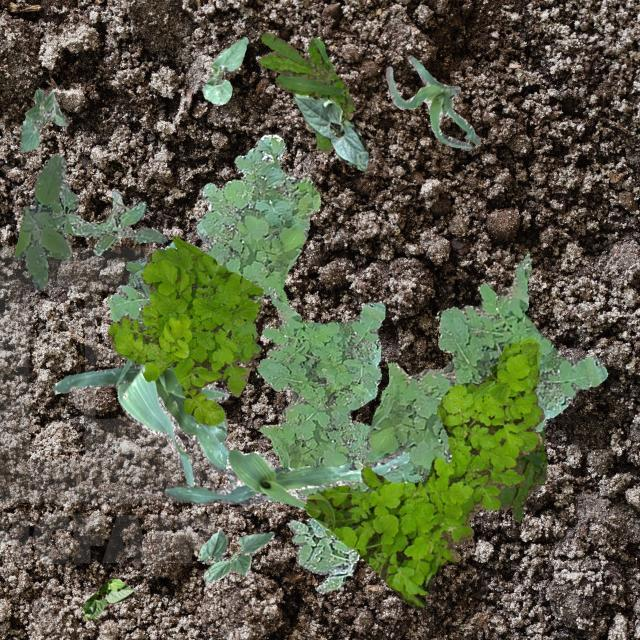crop: (51, 358, 276, 500), (164, 448, 408, 508), (384, 54, 478, 150), (293, 92, 367, 170), (198, 528, 274, 584), (19, 88, 68, 150), (202, 36, 246, 104), (81, 578, 132, 620)
weed: (302, 336, 544, 608), (350, 253, 606, 492), (106, 134, 320, 388), (255, 286, 384, 536), (108, 236, 262, 424), (260, 32, 354, 152), (13, 154, 70, 288), (66, 190, 166, 254), (286, 516, 358, 592), (498, 426, 546, 520), (48, 180, 76, 234), (125, 257, 149, 297)
